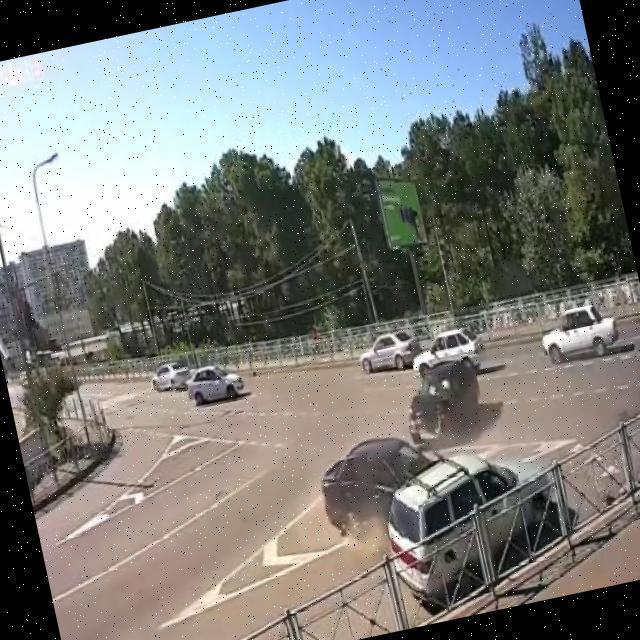accident: (339, 418, 521, 573)
